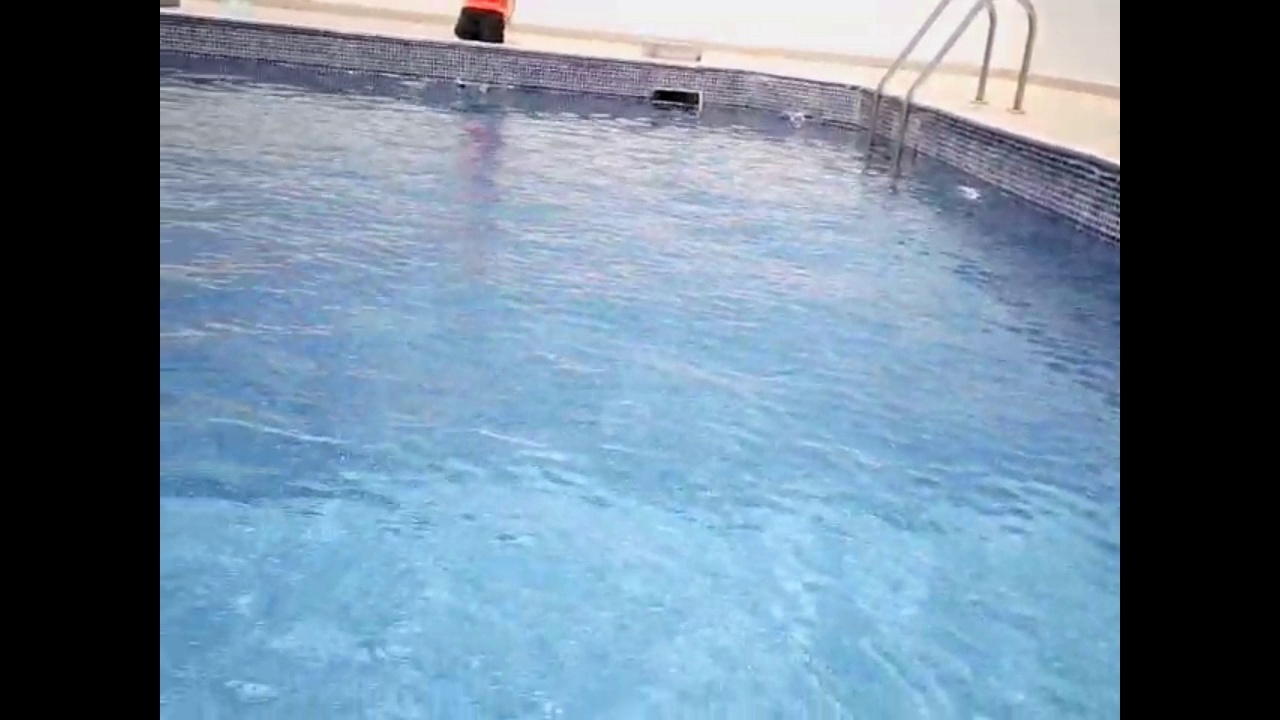debris: (775, 105, 808, 131), (473, 78, 498, 99), (450, 70, 470, 91)
